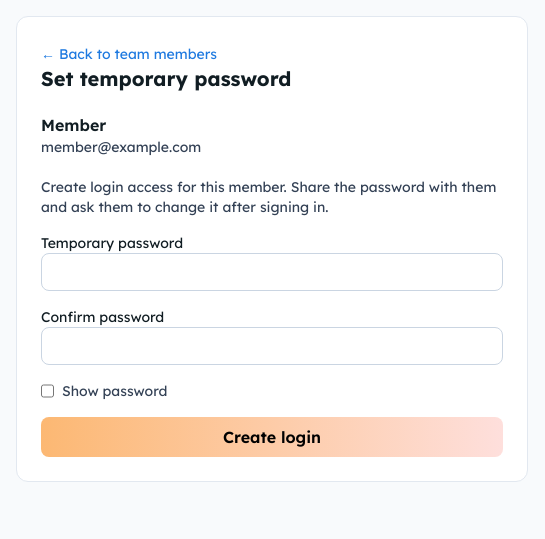
Scenario: shows backend validation errors and allows retry
In the password field labelled "Temporary password": {"x": 272, "y": 272} [41,253,503,291], type "Strong-password-27!"
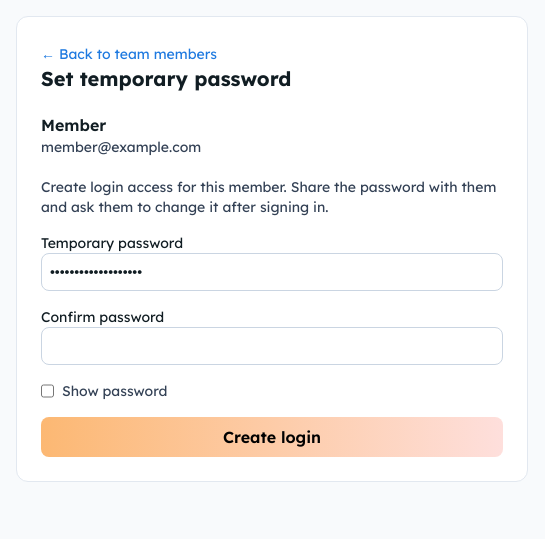
In the password field labelled "Confirm password": {"x": 272, "y": 346} [41,327,503,365], type "Strong-password-27!"
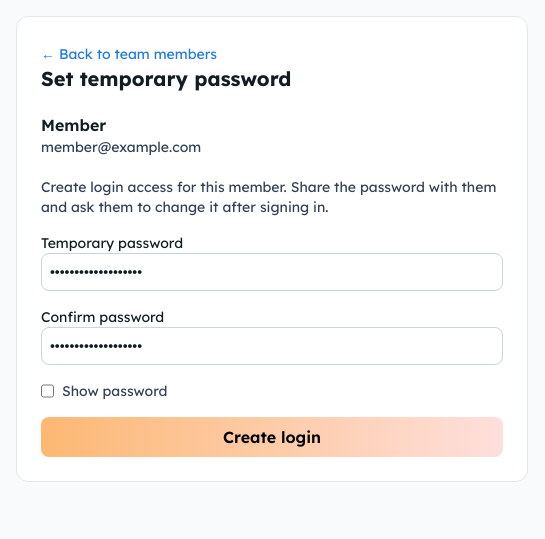
Click the button "Create login": {"x": 272, "y": 437} [41,417,503,457]
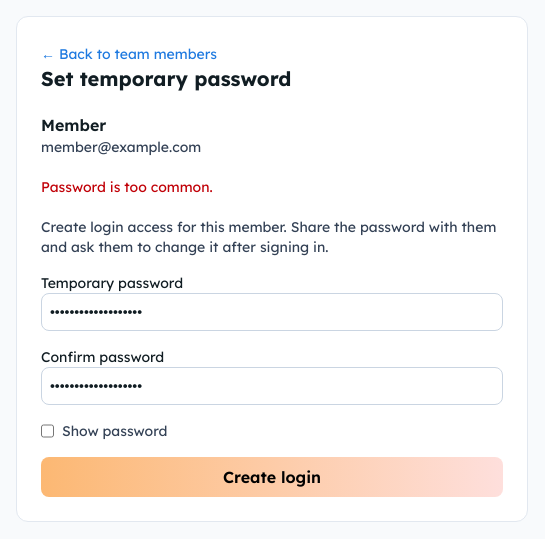
expect the button "Create login" is enabled: met, box [41,457,503,497]
expect the message reads "Password is too common.": met, box [41,178,213,196]
